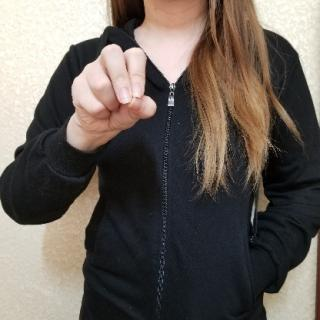QAAF: (66, 39, 165, 140)
